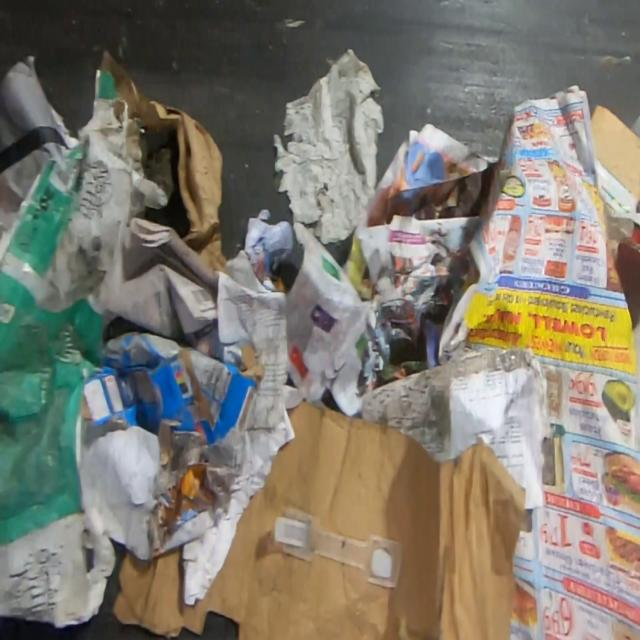cardboard: (113, 400, 527, 639), (80, 330, 262, 561), (101, 49, 225, 269), (590, 103, 640, 211), (610, 236, 640, 331)
